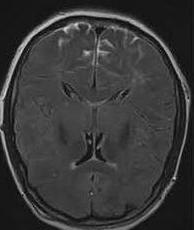Normal_Brain: (1, 1, 194, 230)
